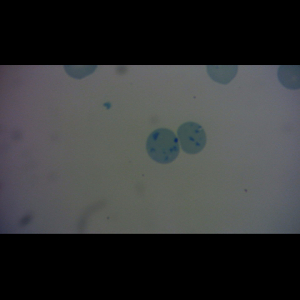aggregate reticulocyte: (145, 127, 180, 165), (176, 121, 207, 155)
